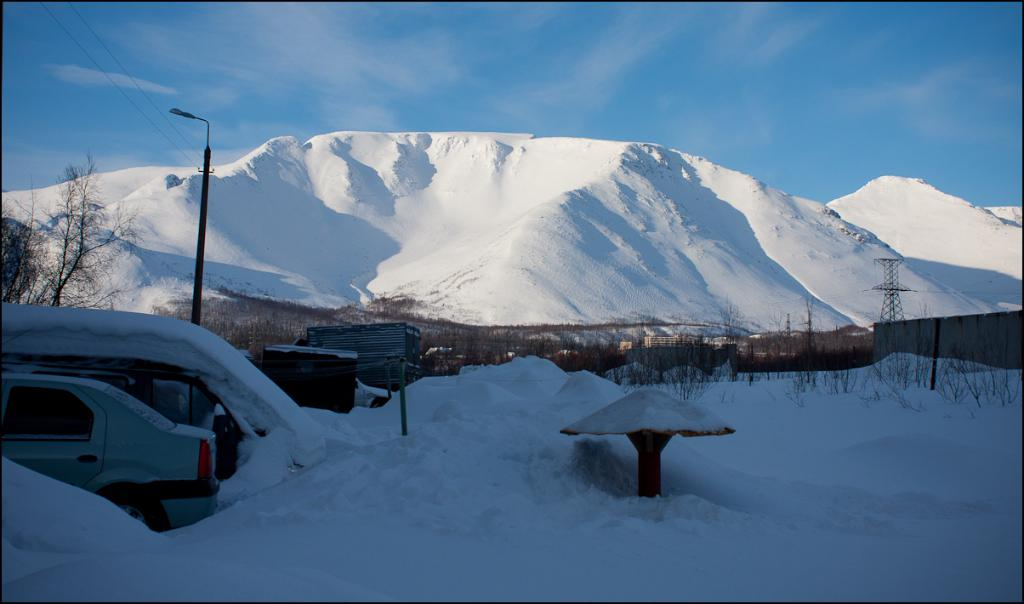Car: (20, 355, 252, 525)
